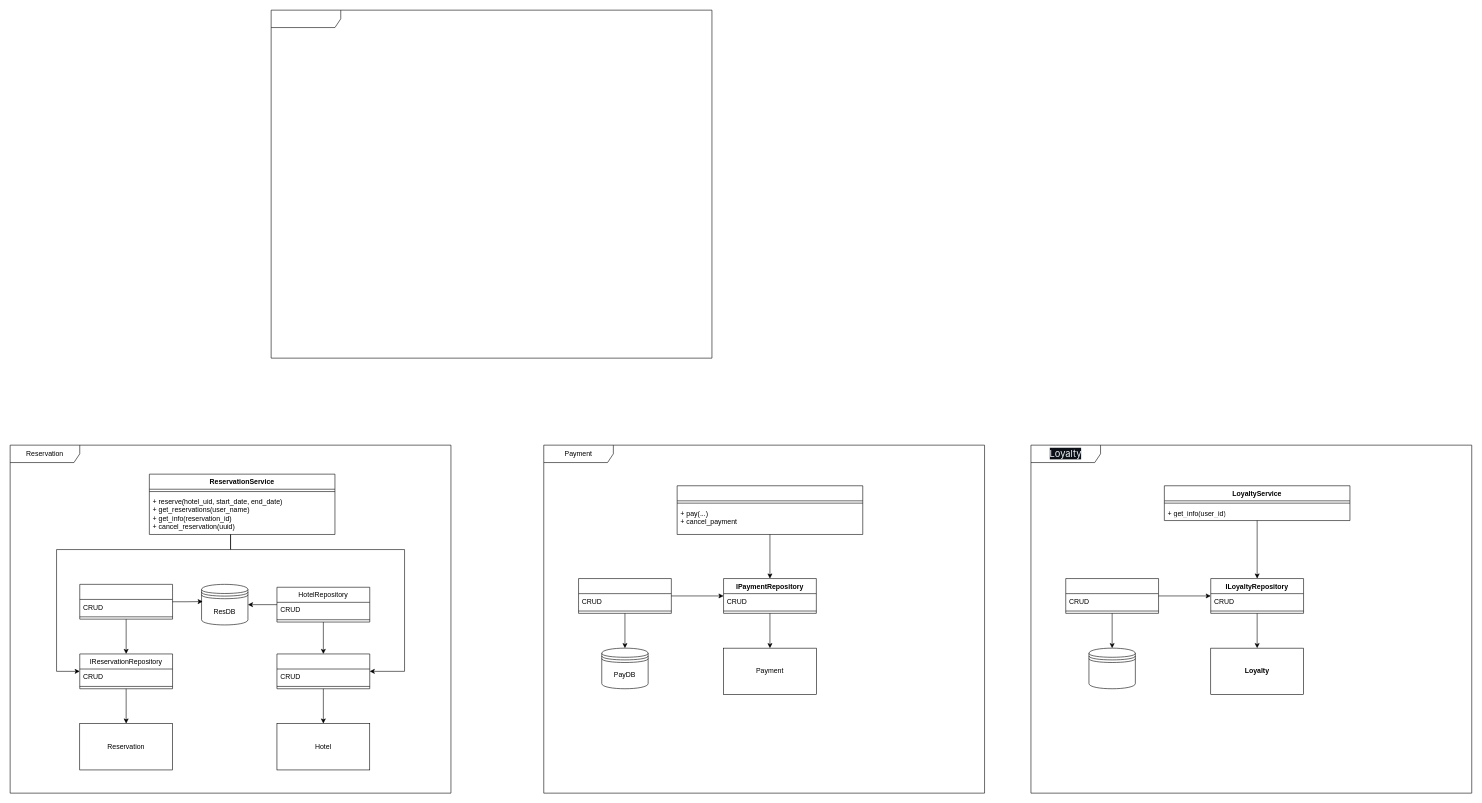
Some shapes in this 1482 by 803 pixel diagram are drawn without their labels. The box of each missing label's shape, as (x1, y1, x2, y2) in pixels:
Api Gateway: (271, 10, 712, 358)
IHotelRepository: (276, 653, 370, 689)
LoyalDB: (1088, 648, 1135, 689)
LoyaltyRepository: (1065, 578, 1159, 613)
PaymentRepository: (578, 578, 671, 613)
PaymentService: (677, 485, 863, 534)
ReservationRepository: (79, 584, 173, 619)
